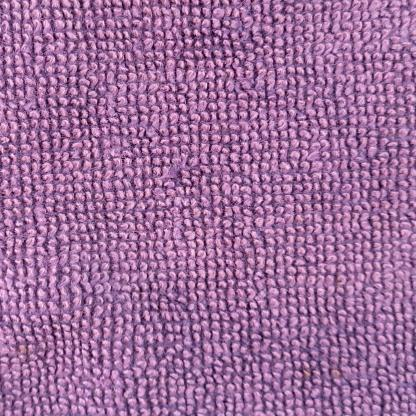spot: (296, 360, 356, 384), (13, 332, 41, 360)
